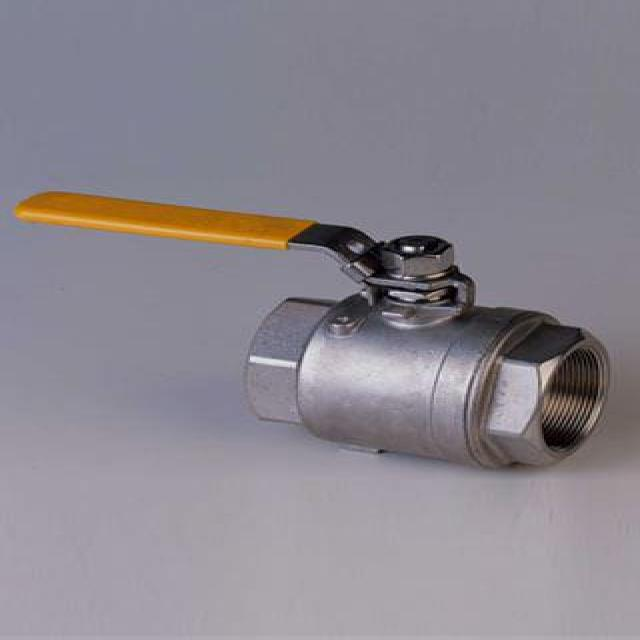opened_valve: (12, 186, 610, 467)
